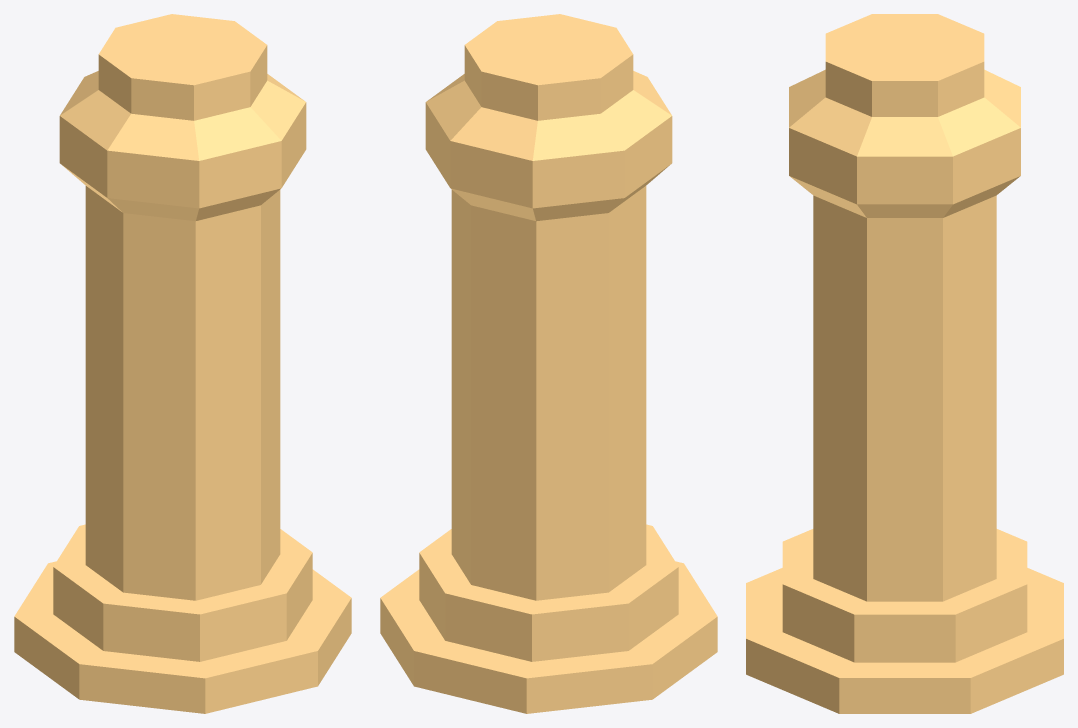
The model's file is deco-bollard.glb.
3 views of the same model, side by side, from view 1: azimuth 30°, elevation 25°; view 2: azimuth 150°, elevation 25°; view 3: azimuth 270°, elevation 25° (orthographic).
Parts seen in each view (by area): view 1: DecoBollard; view 2: DecoBollard; view 3: DecoBollard.
Boxes of the visible parts, left/top/right/bottom form: DecoBollard: left=14, top=14, right=351, bottom=713; DecoBollard: left=380, top=14, right=717, bottom=713; DecoBollard: left=746, top=14, right=1063, bottom=713.
Bounding box in the file's own units: 0.4804 × 1 × 0.4804.
